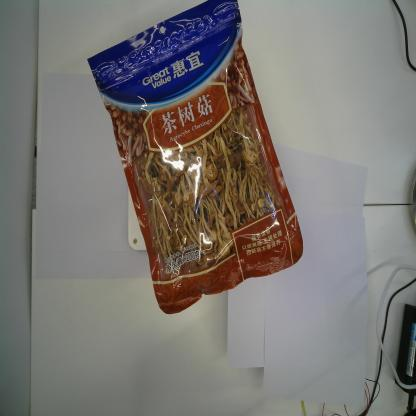Dried Food: (86, 0, 304, 316)
